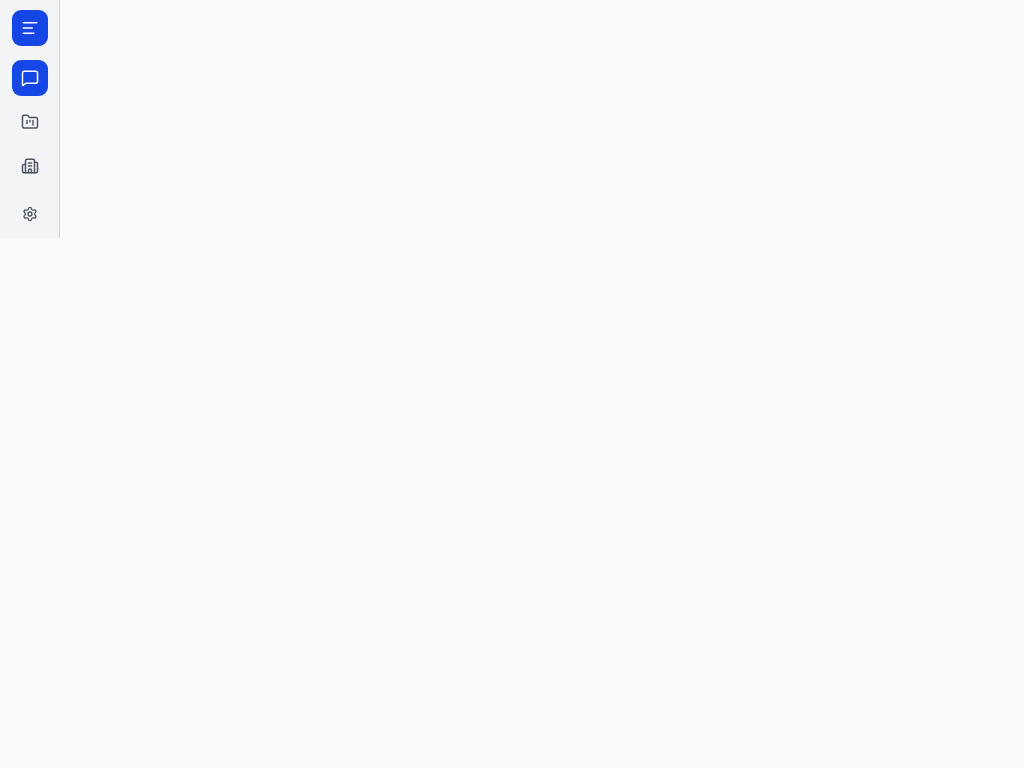
Test: Rail › opens the settings menu and then the connection dialog
The width and height of the screenshot is (1024, 768).
Click the button named "Settings".
click(30, 214)  # box [16,200,44,228]
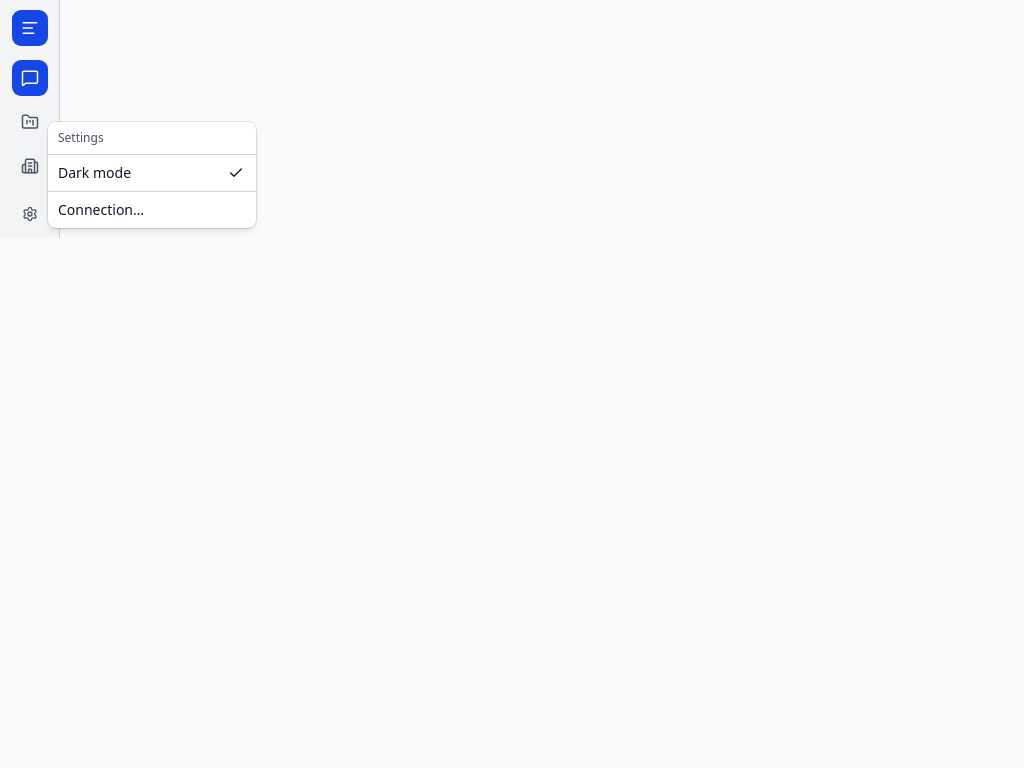
Click the menu item "Connection…".
click(101, 210)  # box [58,200,144,219]
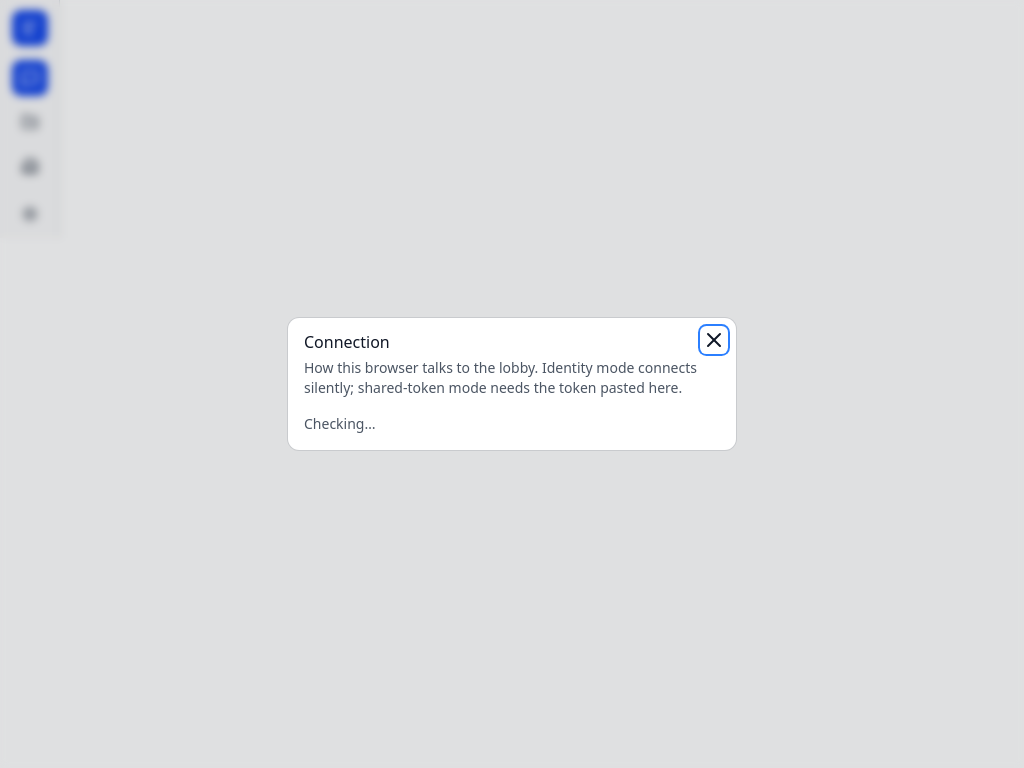
Check: the dialog is shown, box [288,318,736,450]
Check: the text "How this browser talks to the lobby" is shown, box [304,358,697,397]
